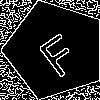F: (30, 25, 84, 79)
